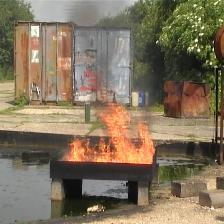fire: (62, 103, 155, 164)
